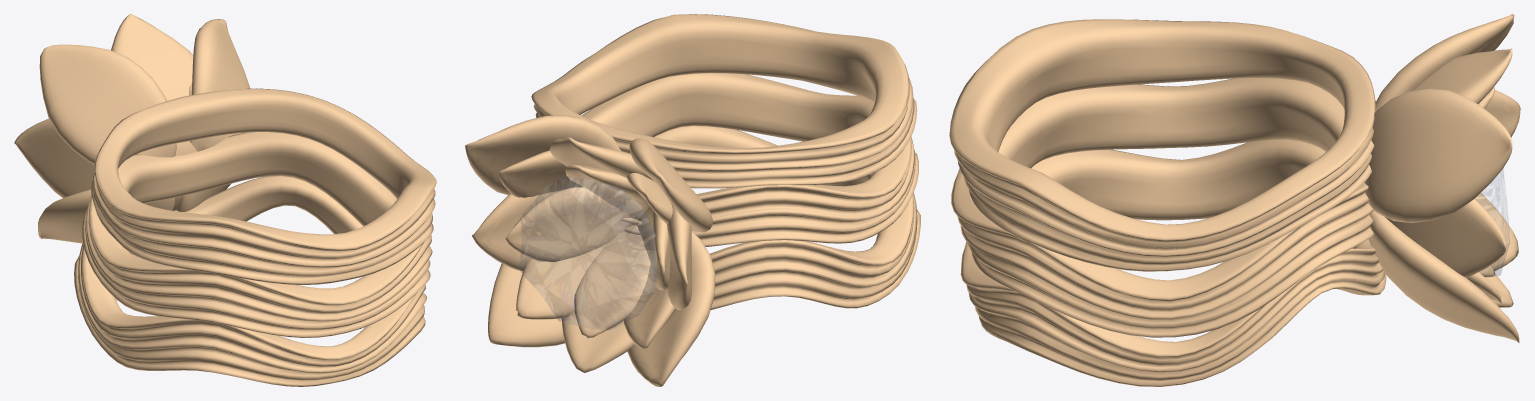
Rendered from ciciek-kirmizi-yuzuk.glb.
3 views of the same model, side by side, from view 1: azimuth 30°, elevation 25°; view 2: azimuth 150°, elevation 25°; view 3: azimuth 270°, elevation 25° (orthographic). The views are drawn at different scales.
Visible parts, largest first — view 1: Retopo_Stem.001, Ring with a diamond, Retopo_Petal001, Retopo_Stem.002; view 2: Retopo_Stem.001, Ring with a diamond, Retopo_Petal001, Retopo_Petal001.001, Diamond.001, Retopo_Stem.002; view 3: Retopo_Stem.001, Ring with a diamond, Retopo_Petal001, Retopo_Stem.002, Diamond.001, Retopo_Petal001.001.
Boxes of the visible parts, <box> form: Retopo_Stem.001: <box>91,88,436,284</box>; Ring with a diamond: <box>82,132,432,337</box>; Retopo_Petal001: <box>14,14,250,243</box>; Retopo_Stem.002: <box>74,176,426,386</box>; Retopo_Stem.001: <box>531,14,917,188</box>; Ring with a diamond: <box>581,73,918,246</box>; Retopo_Petal001: <box>465,115,715,386</box>; Retopo_Petal001.001: <box>499,150,675,349</box>; Diamond.001: <box>520,176,656,329</box>; Retopo_Stem.002: <box>654,126,920,309</box>; Retopo_Stem.001: <box>949,19,1376,271</box>; Ring with a diamond: <box>951,78,1373,337</box>; Retopo_Petal001: <box>1364,14,1520,342</box>; Retopo_Stem.002: <box>960,139,1386,386</box>; Diamond.001: <box>1475,108,1509,277</box>; Retopo_Petal001.001: <box>1466,87,1501,303</box>.
Bounding box in the file's own units: 0.0268 × 0.0175 × 0.0343.
2 materials, 1 textured.
